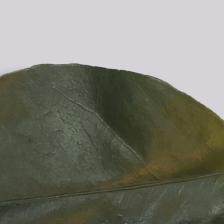healthy: (2, 76, 211, 224)
